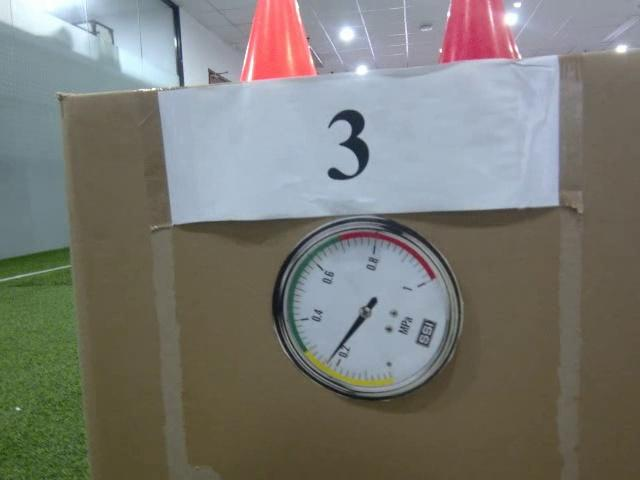3: (322, 104, 371, 182)
Dashboard: (270, 216, 463, 402)
orange_barrel: (239, 0, 320, 84)
red_barrel: (436, 0, 523, 64)
ssi: (416, 316, 437, 350)
